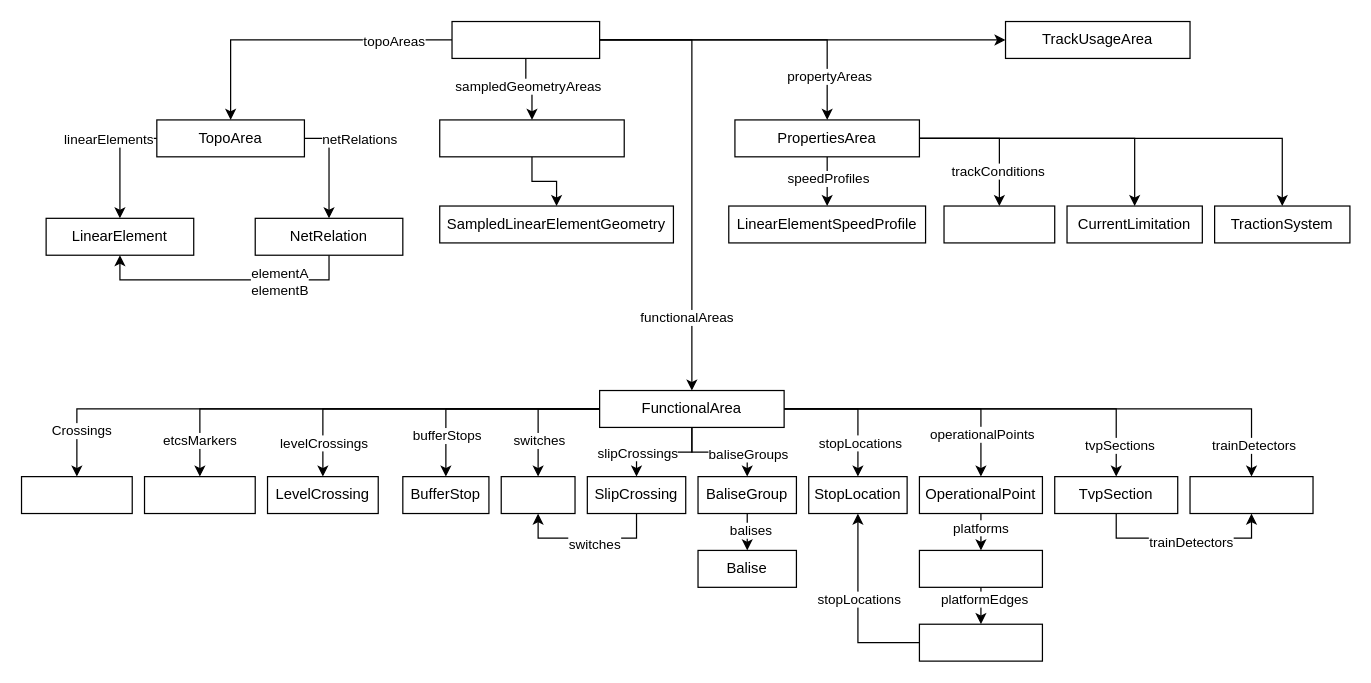
The diagram is 1371 pixels wide and 683 high, and some of its shapes have lost their labels. Here are the shapes that lost their labels. From the top down, the centre of each, then its label:
At (525,39): "Infrastructure".
At (531,138): "SampledGeometryArea".
At (999,224): "TrackCondition".
At (76,494): "Crossing".
At (199,494): "ETCSMarker".
At (537,494): "Switch".
At (1251,494): "TrainDetector".
At (980,568): "Platform".
At (980,642): "PlatformEdge".
